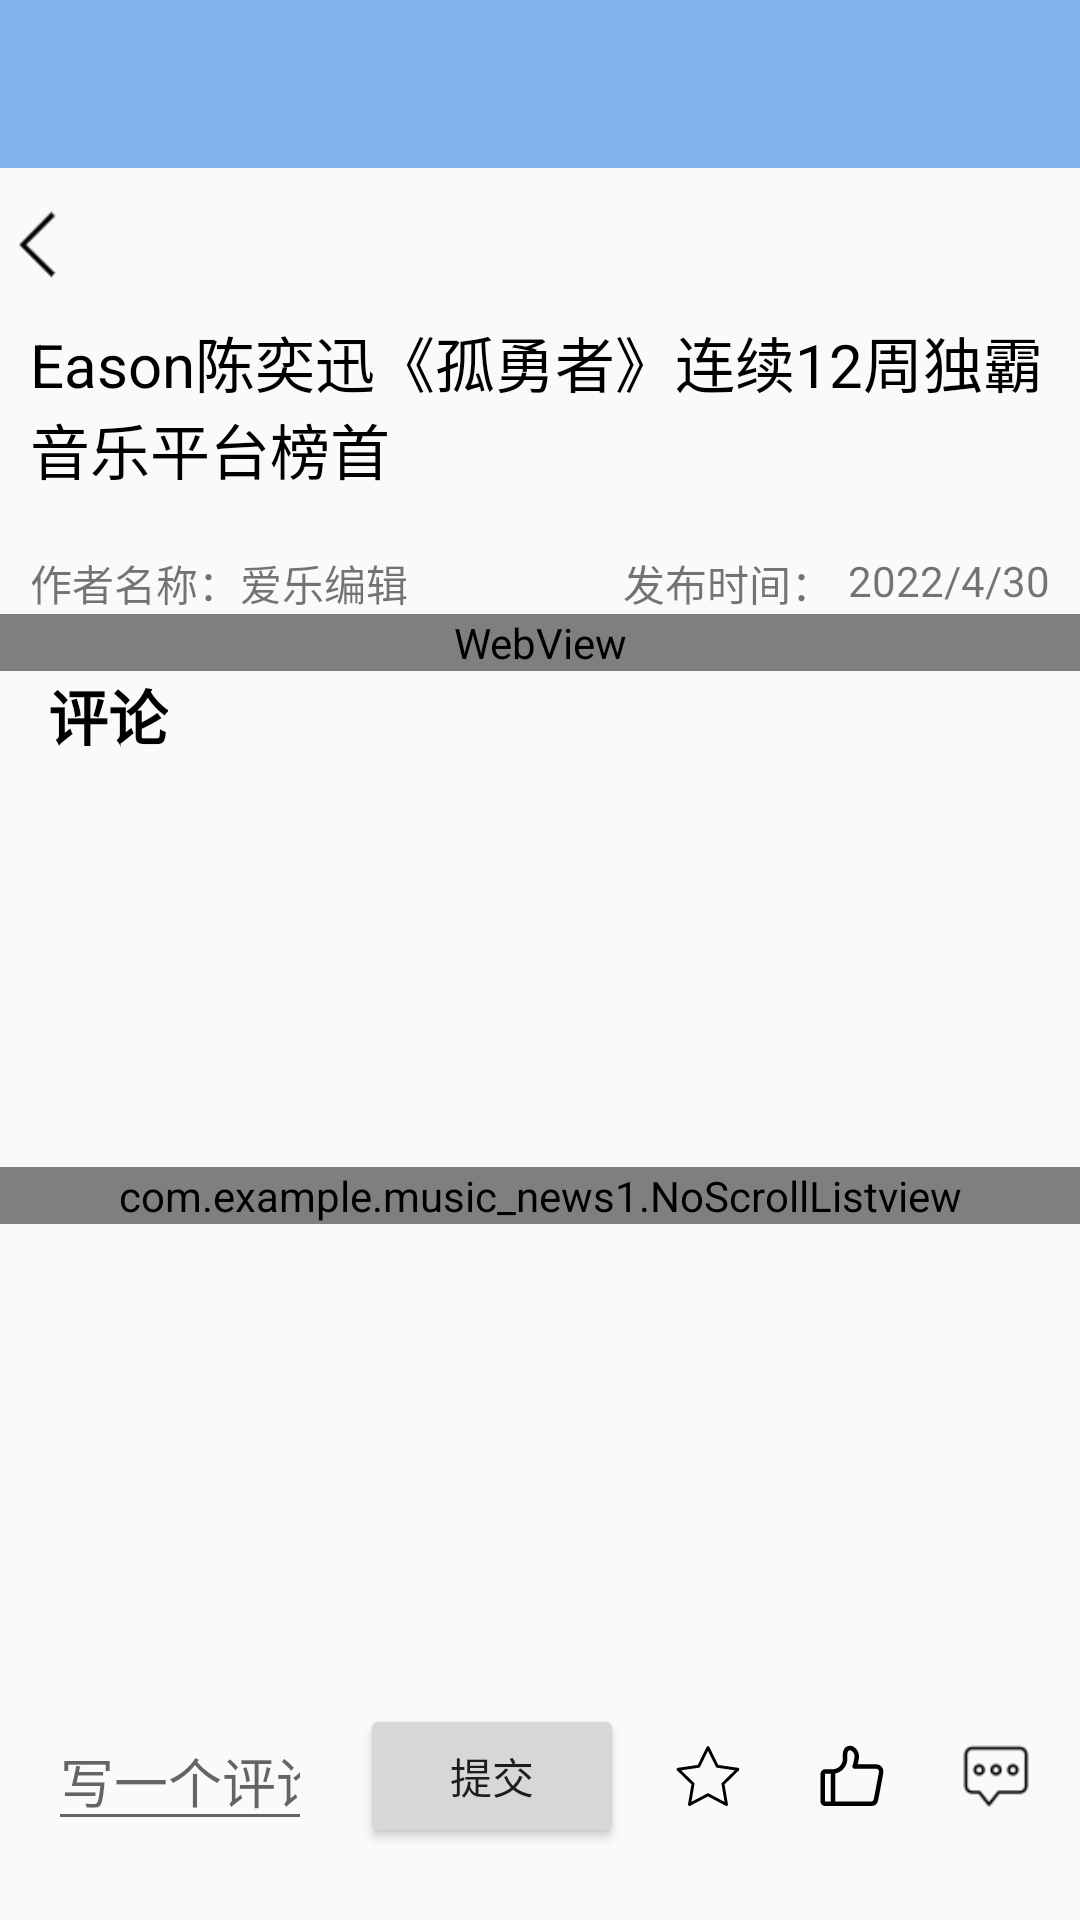

Icons on this 1080px×1920px Android screen, each with the point to tap as (x=x, y=y):
backblack: (x=37, y=244)
comment: (x=996, y=1776)
zan: (x=852, y=1775)
